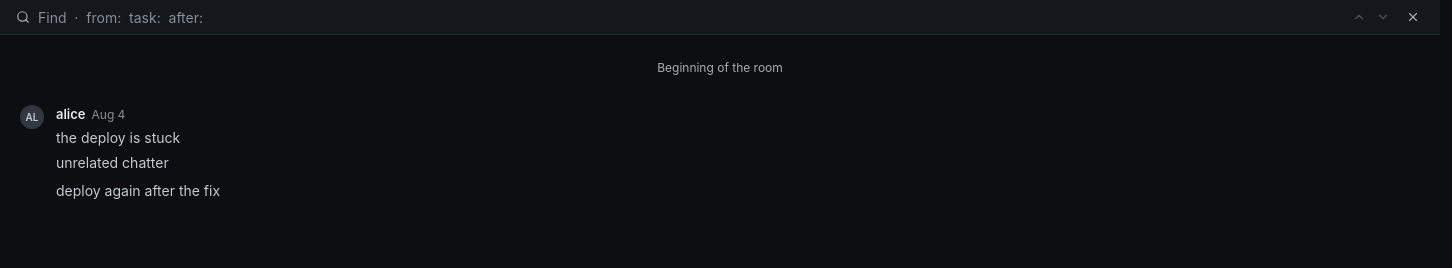
Test: <EventStream /> find in the channel › counts the messages a query hits and marks the text in them
Type "deploy" into the field named "Find in the channel" at (685, 17), box [38,6,1332,28]
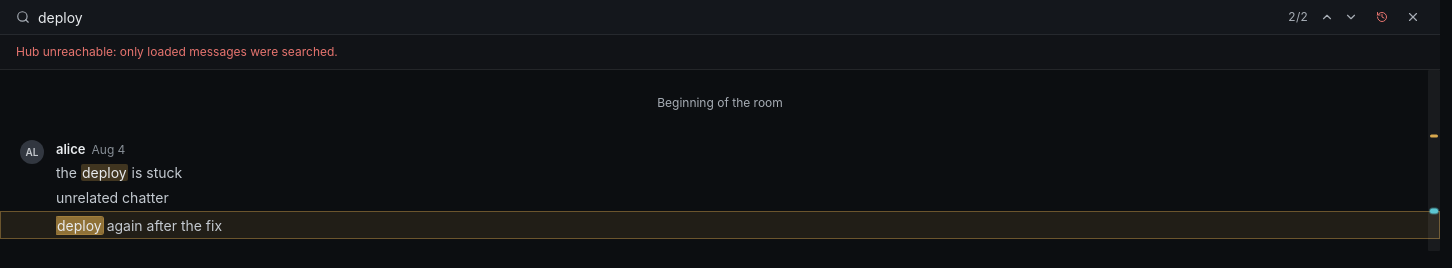
Now the text "2/2" is shown, box [1288,8,1308,26]
Now the text "deploy" is shown 2 times, box [81,164,128,181]; [56,217,103,234]
